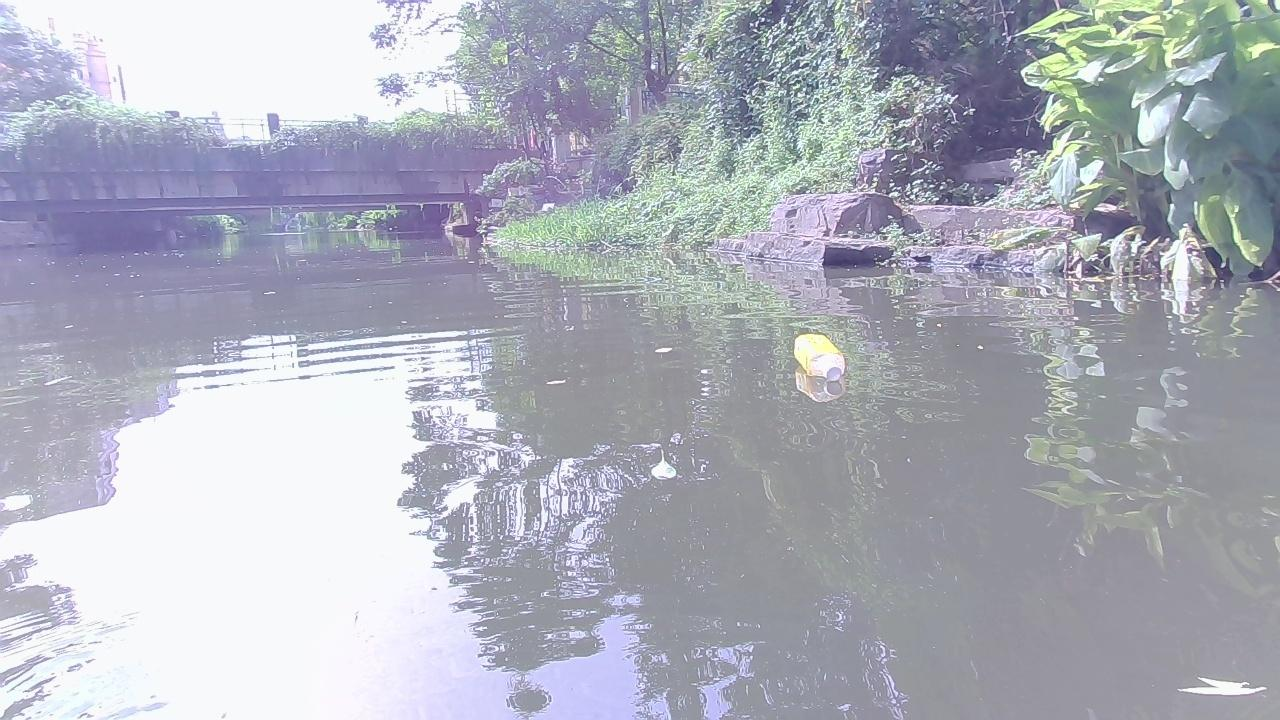bottle: (792, 332, 849, 384)
